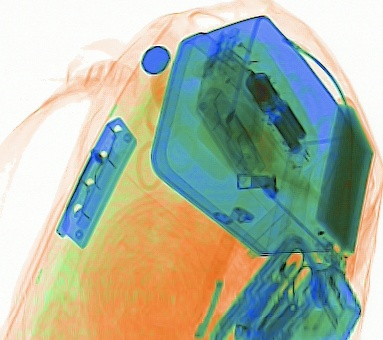scissors: (256, 246, 314, 331)
